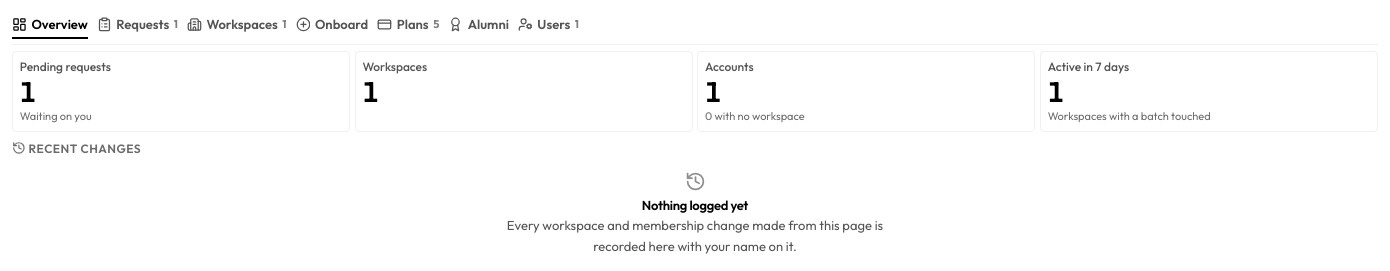
FounderConsole › the Users tab lists every account, with the workspaces they belong to
Click the tab "Users 1". click: (548,26)
box: [518,12,579,39]
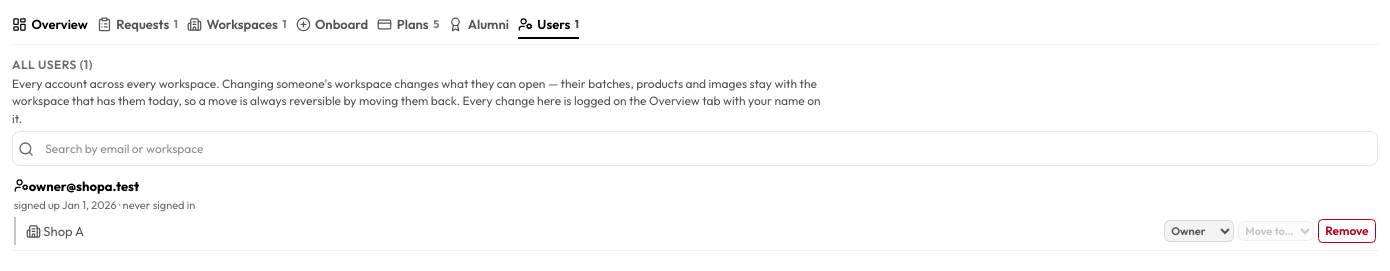
Result: the text "All users (1)" is shown at [12,57,93,72]
Result: the element with class "fa-ms-org" reads "Shop A" at [43,223,84,239]
